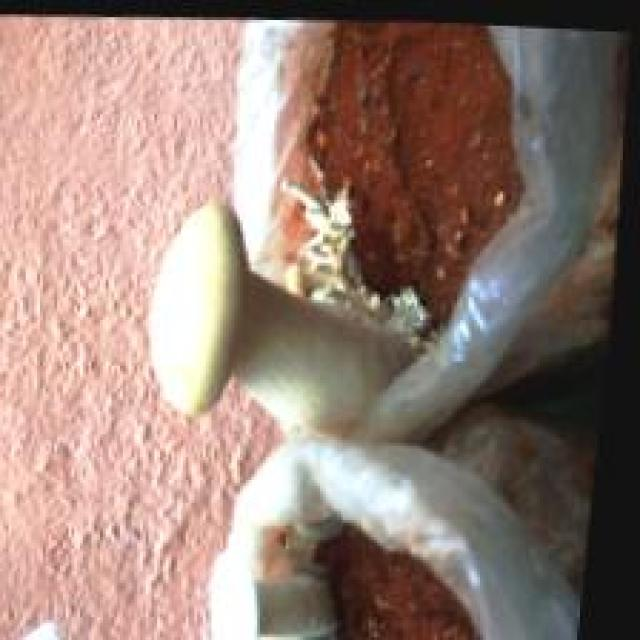chanterelle: (145, 20, 626, 637)
